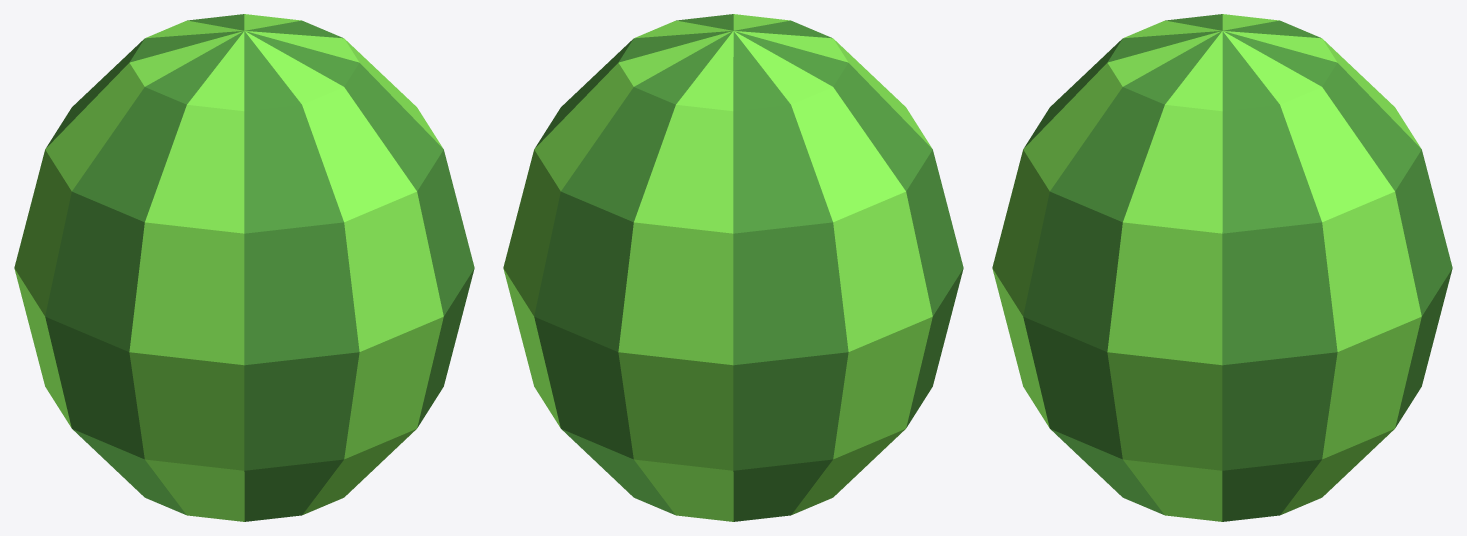
Rendered from lubenicaKOOL.fbx.
3 views of the same model, side by side, from view 1: azimuth 30°, elevation 25°; view 2: azimuth 150°, elevation 25°; view 3: azimuth 270°, elevation 25° (orthographic).
Parts seen in each view (by area): view 1: Sphere; view 2: Sphere; view 3: Sphere.
Part boxes in pixels (x1,y1,x2,y2): Sphere: (14,14,474,521); Sphere: (503,14,963,521); Sphere: (992,14,1452,521).
Size of the model in its own units: 200 by 227 by 200.
